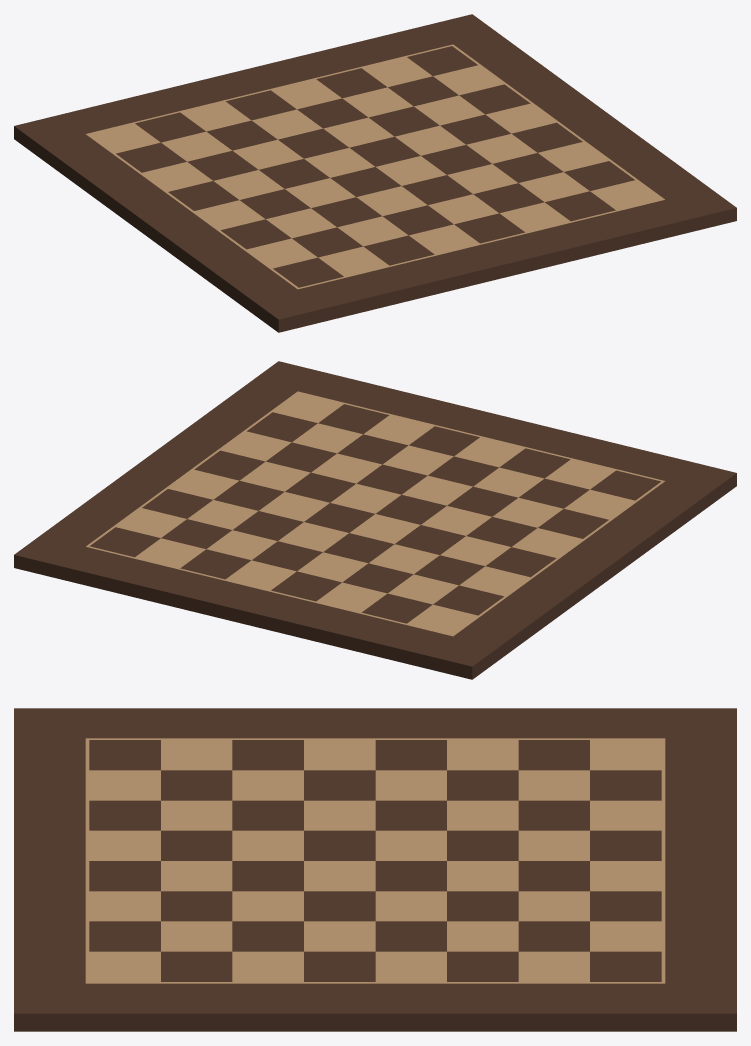
The model's file is chess_board.glb.
3 views of the same model, one above another, from view 1: azimuth 30°, elevation 25°; view 2: azimuth 150°, elevation 25°; view 3: azimuth 270°, elevation 25° (orthographic). The views are drawn at different scales.
Parts seen in each view (by area): view 1: Untitled.069, Untitled.070, Untitled.071, Untitled, Untitled.032, Untitled.036, Untitled.062, Untitled.004, Untitled.006, Untitled.013, Untitled.014, Untitled.025 (+60 smaller); view 2: Untitled.071, Untitled, Untitled.069, Untitled.070, Untitled.006, Untitled.028, Untitled.040, Untitled.008, Untitled.013, Untitled.014, Untitled.015, Untitled.026 (+60 smaller); view 3: Untitled, Untitled.070, Untitled.069, Untitled.071, Untitled.001, Untitled.002, Untitled.003, Untitled.004, Untitled.005, Untitled.006, Untitled.007, Untitled.008 (+60 smaller).
Part boxes in pixels (bbox=[...]): Untitled.069: bbox=[146, 212, 507, 332]; Untitled.070: bbox=[482, 111, 736, 276]; Untitled.071: bbox=[14, 70, 268, 235]; Untitled: bbox=[243, 14, 603, 121]; Untitled.032: bbox=[194, 200, 265, 230]; Untitled.036: bbox=[349, 136, 420, 166]; Untitled.062: bbox=[180, 101, 251, 131]; Untitled.004: bbox=[454, 213, 524, 243]; Untitled.006: bbox=[363, 235, 434, 265]; Untitled.013: bbox=[383, 205, 453, 235]; Untitled.014: bbox=[337, 216, 408, 246]; Untitled.025: bbox=[512, 122, 582, 152]; Untitled.071: bbox=[243, 559, 604, 679]; Untitled: bbox=[14, 458, 268, 623]; Untitled.069: bbox=[482, 417, 736, 582]; Untitled.070: bbox=[147, 361, 507, 468]; Untitled.006: bbox=[499, 448, 570, 478]; Untitled.028: bbox=[330, 483, 401, 513]; Untitled.040: bbox=[485, 547, 556, 577]; Untitled.008: bbox=[590, 470, 660, 500]; Untitled.013: bbox=[428, 456, 498, 486]; Untitled.014: bbox=[473, 467, 544, 497]; Untitled.015: bbox=[519, 478, 589, 508]; Untitled.026: bbox=[240, 461, 310, 491]; Untitled: bbox=[375, 861, 736, 1031]; Untitled.070: bbox=[14, 861, 375, 1031]; Untitled.069: bbox=[14, 708, 375, 860]; Untitled.071: bbox=[375, 708, 736, 860]; Untitled.001: bbox=[89, 951, 160, 981]; Untitled.002: bbox=[89, 921, 160, 951]; Untitled.003: bbox=[89, 891, 160, 921]; Untitled.004: bbox=[89, 861, 160, 891]; Untitled.005: bbox=[89, 830, 160, 860]; Untitled.006: bbox=[89, 800, 160, 830]; Untitled.007: bbox=[89, 770, 160, 800]; Untitled.008: bbox=[89, 740, 160, 770].
Size of the model in its own units: 10.92 by 0.3 by 10.92.
Materials: 72 (72 with a texture image).
